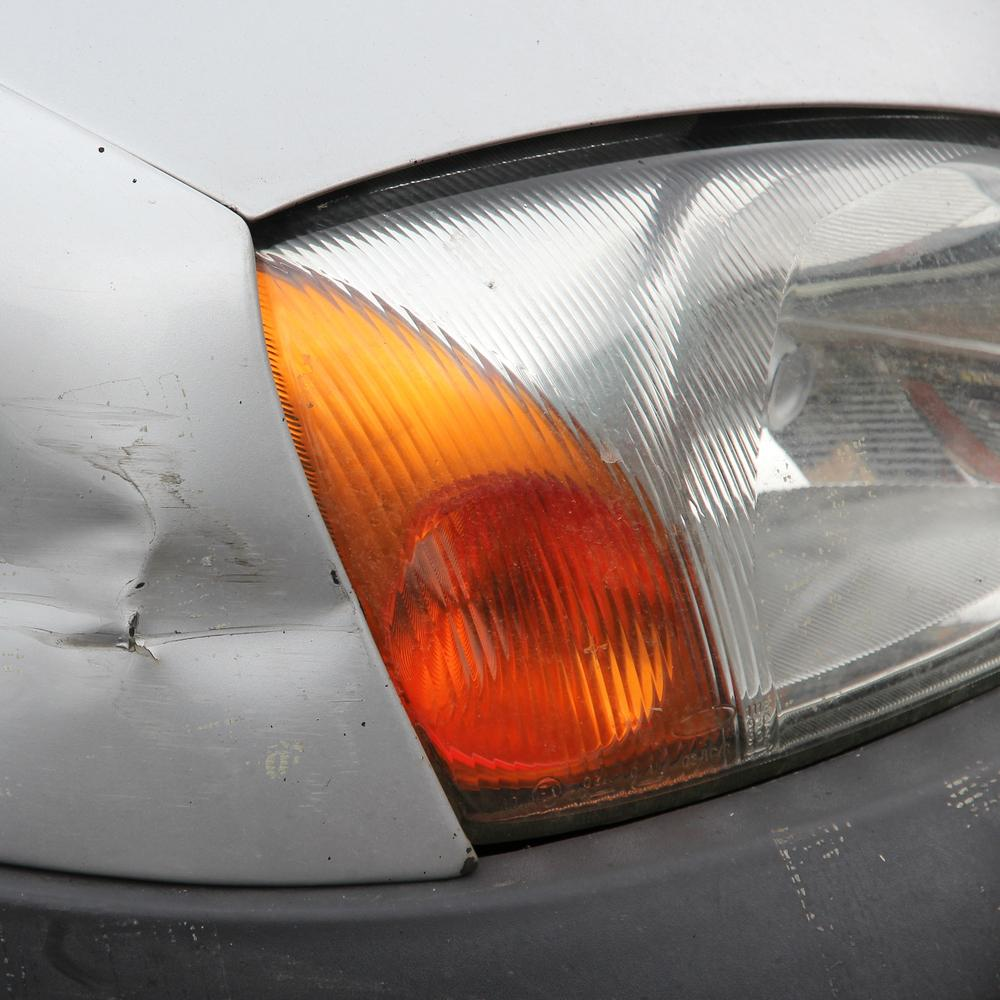dent: (134, 515, 347, 701), (0, 436, 151, 697)
scratch: (99, 610, 373, 825), (0, 369, 214, 549)
